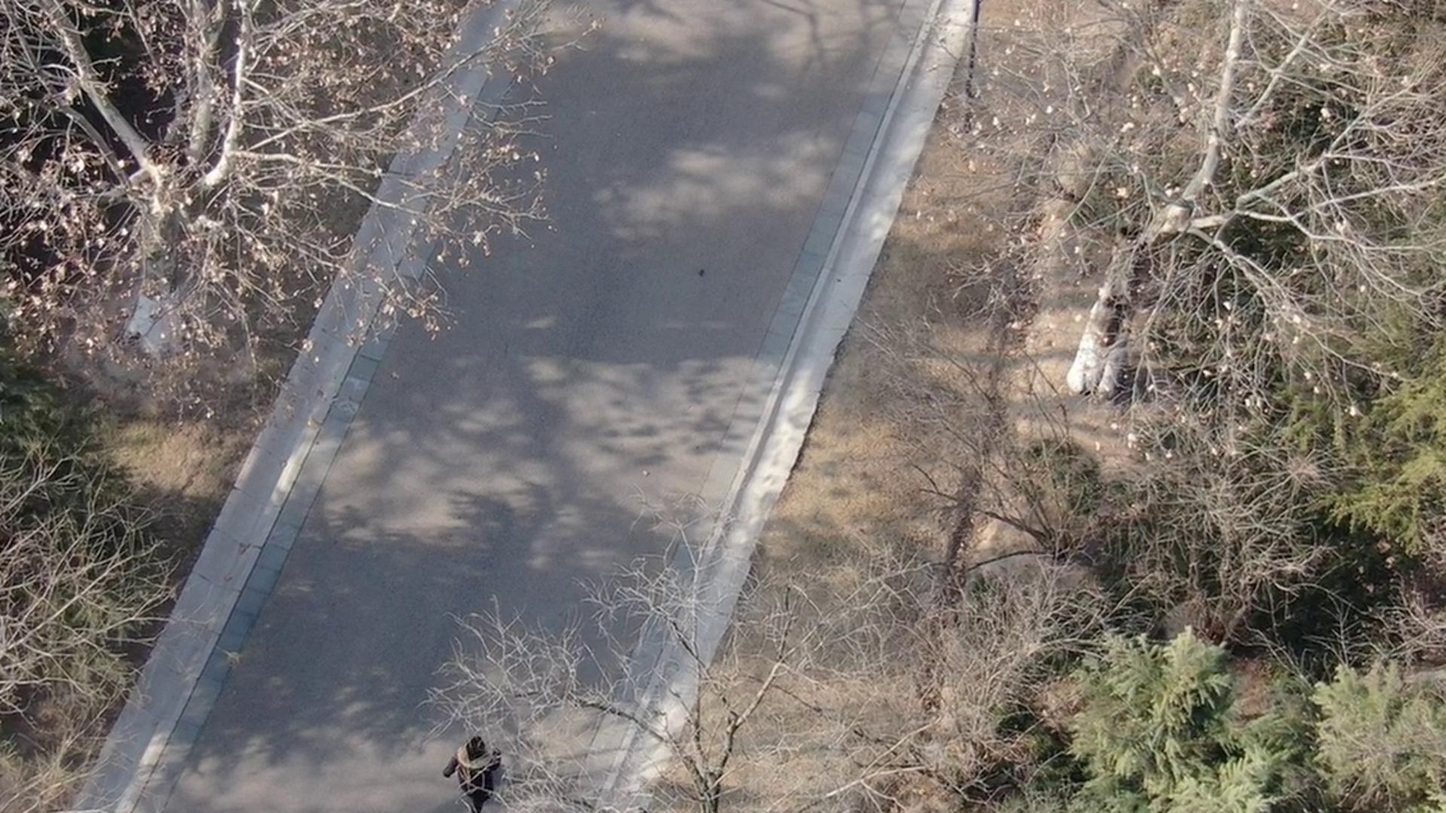human: (412, 732, 478, 813)
